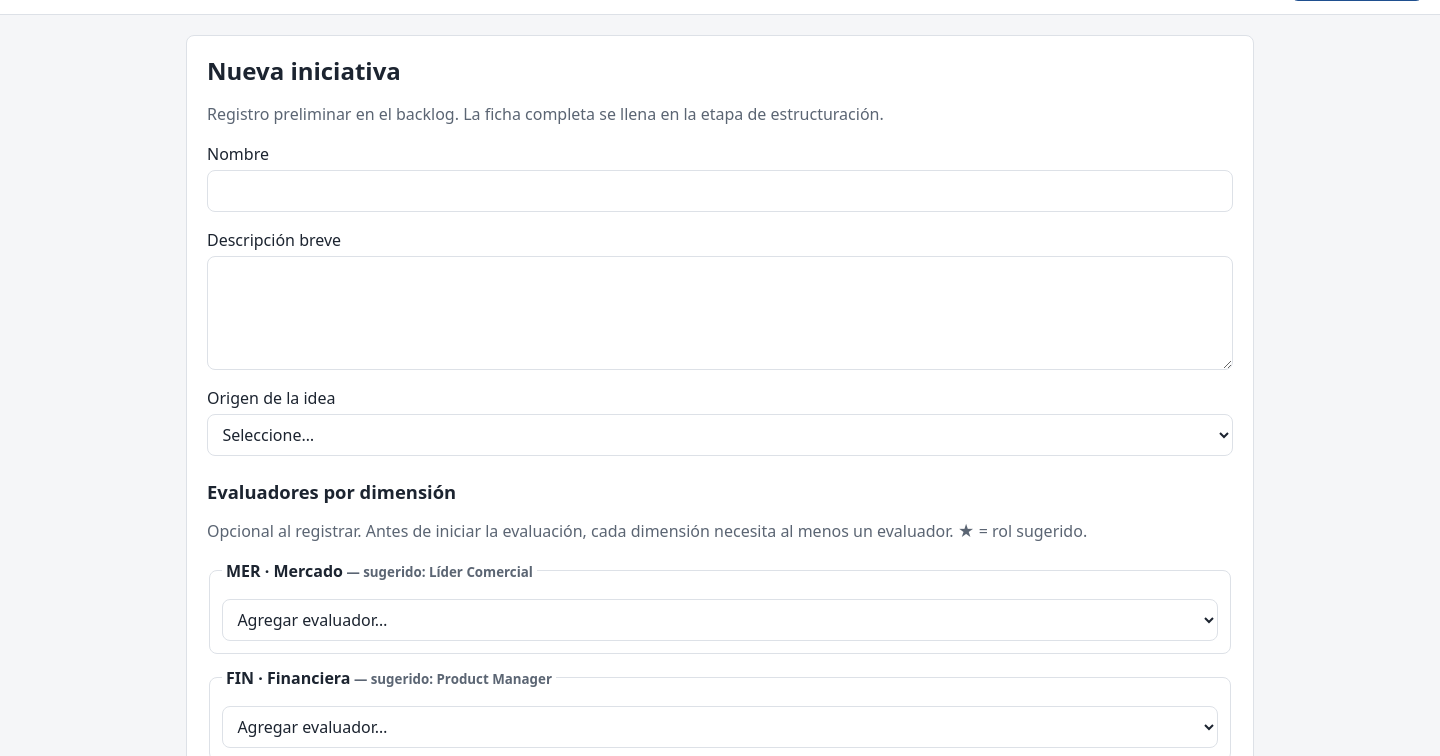
Test case: el PM registra con evaluadores y ve el aviso de duplicado
The width and height of the screenshot is (1440, 756).
Type "Portal de reclamos" into the field labelled "Nombre" at (720, 191), box [207, 170, 1233, 212]
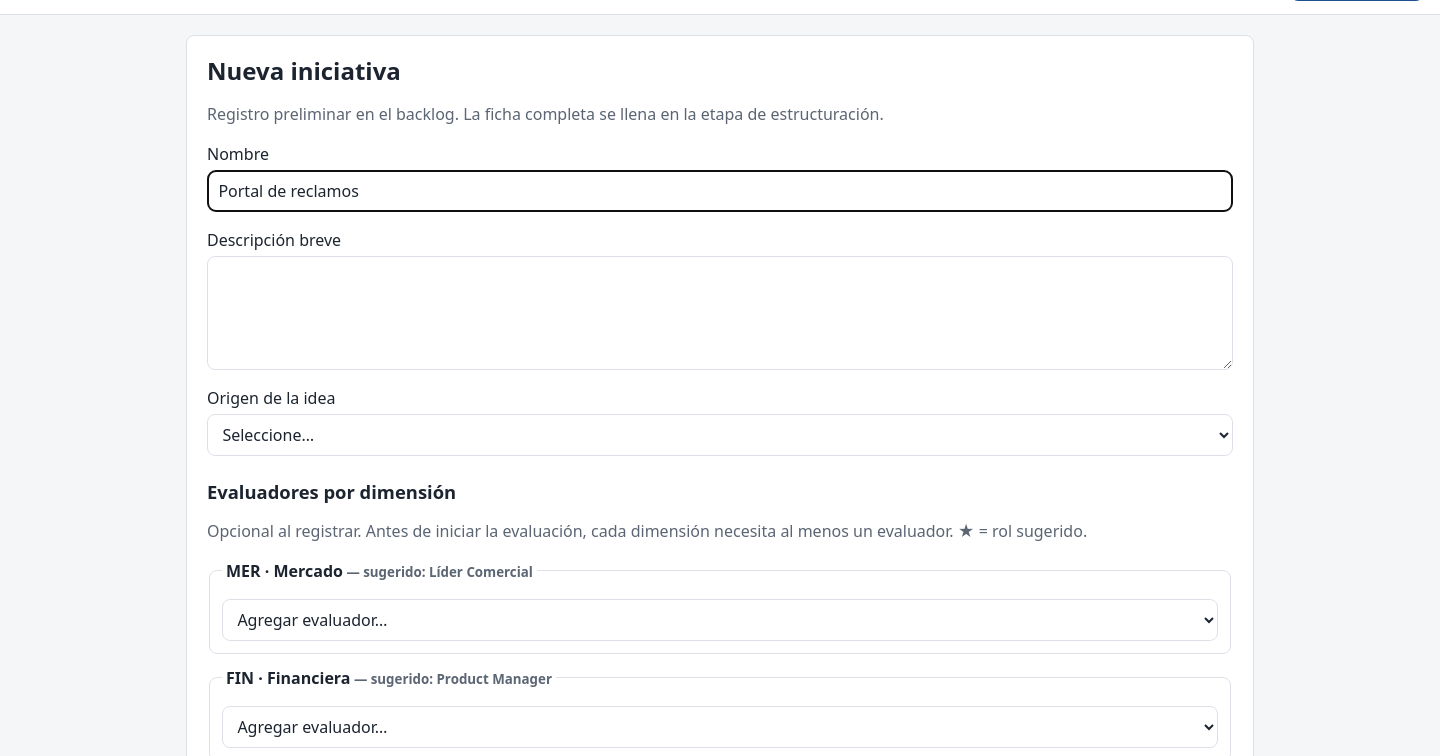
Type "Autogestión de reclamos" into the text box labelled "Descripción breve" at (720, 313), box [207, 256, 1233, 370]
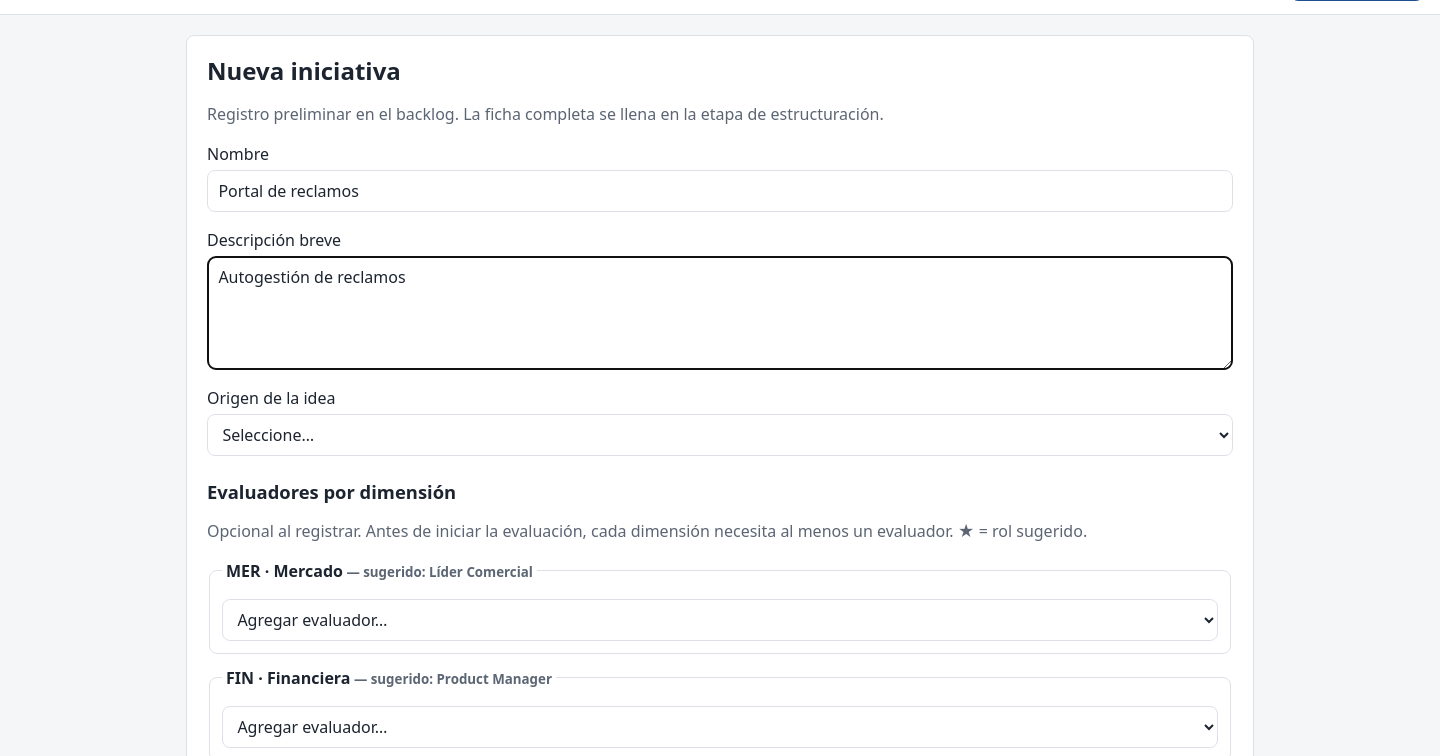
Select "Clientes" in the dropdown labelled "Origen de la idea" at (720, 435), box [207, 414, 1233, 456]
(page scrolled)
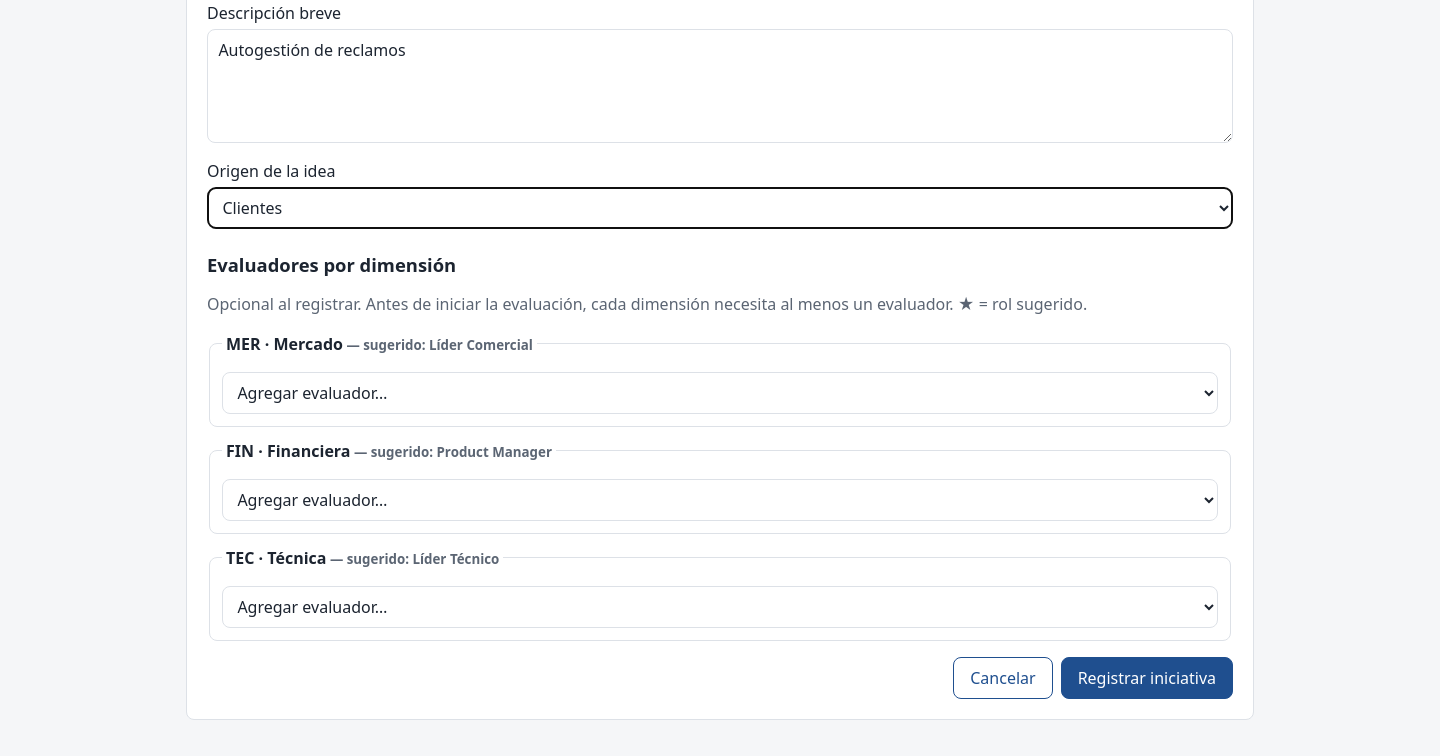
Select "Tomás Técnico ★" in the dropdown named "Agregar evaluador de Técnica" at (720, 607), box [222, 586, 1218, 628]
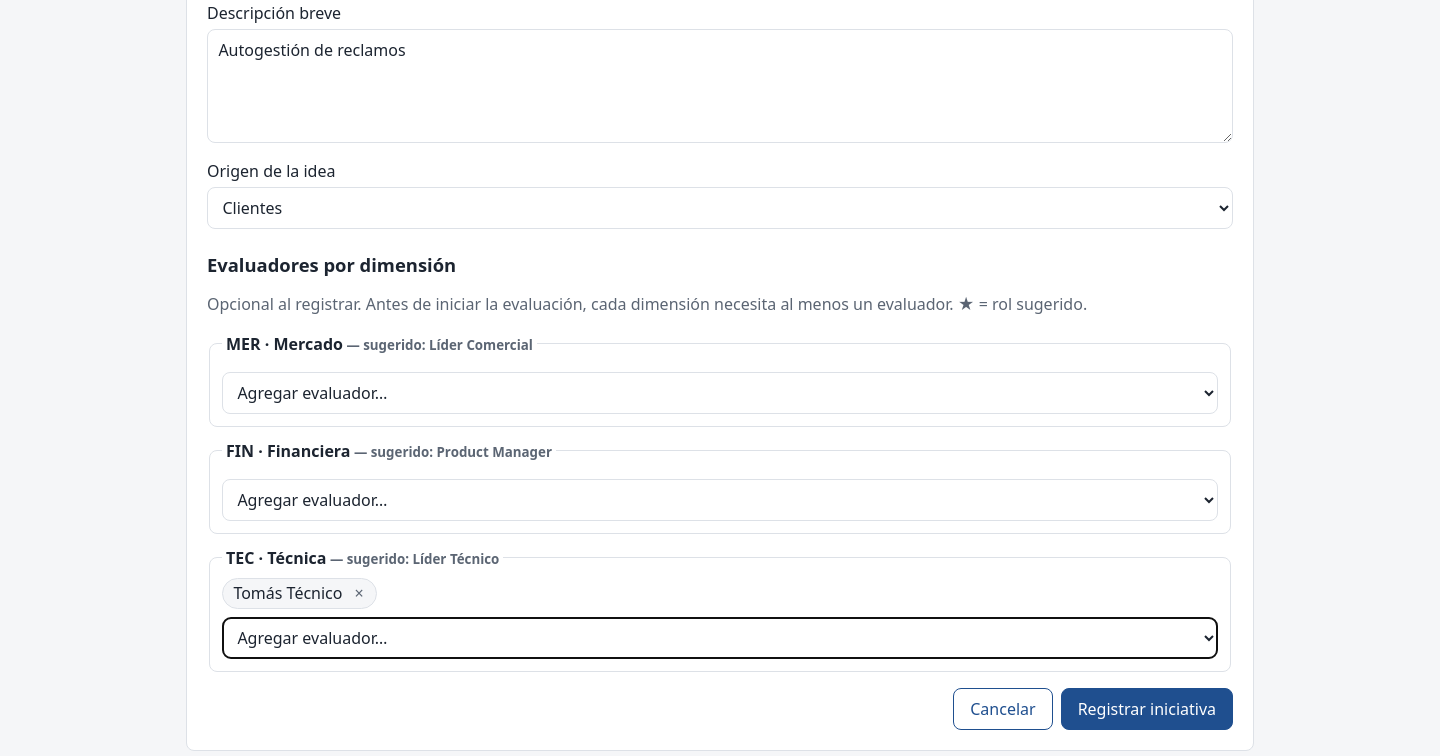
Click the button "Registrar iniciativa" at (1147, 709), box [1061, 688, 1233, 730]
(page scrolled)
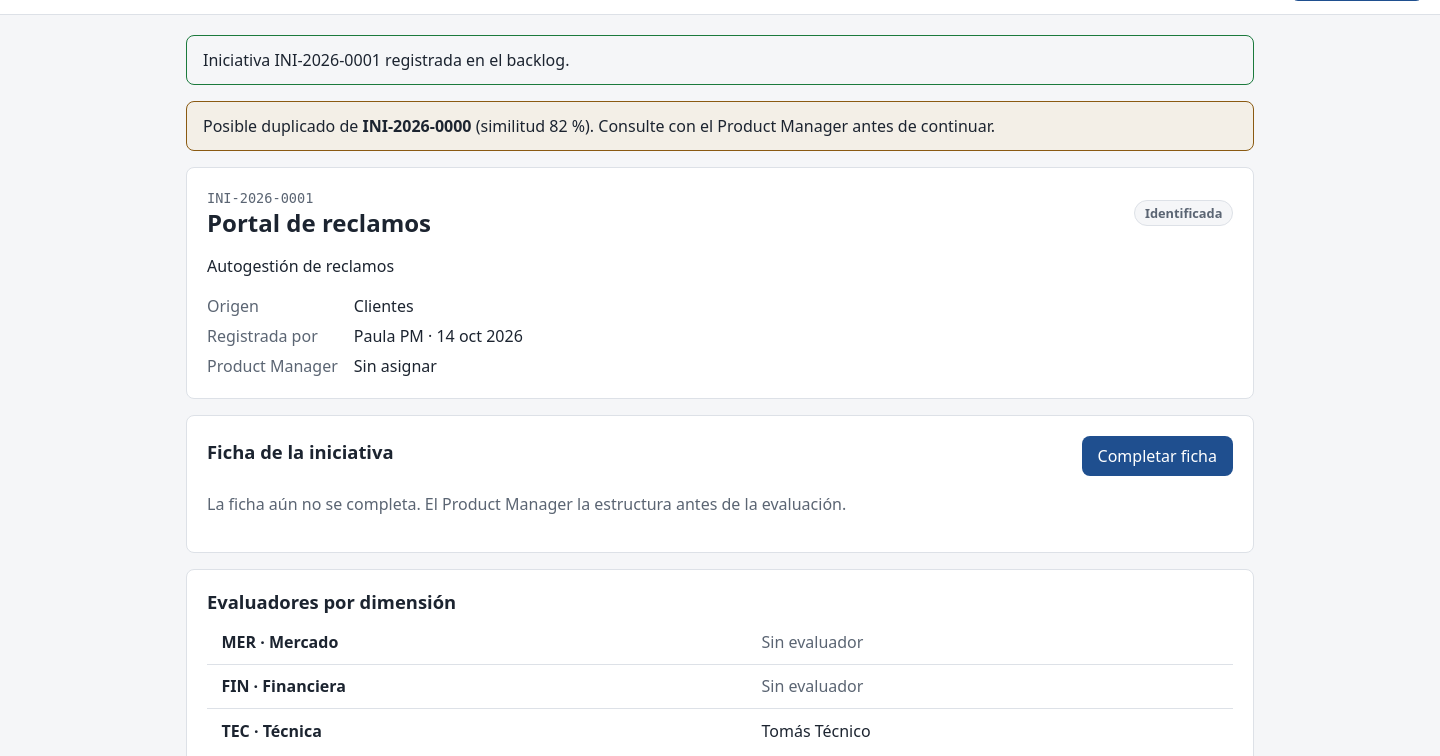
Now the text "Iniciativa INI-2026-0001 registrada en el backlog." is shown, box [186, 35, 1254, 85]
Now the message shows "Posible duplicado de INI-2026-0000", box [186, 101, 1254, 151]
Now the message shows "Consulte con el Product Manager", box [594, 115, 995, 137]
